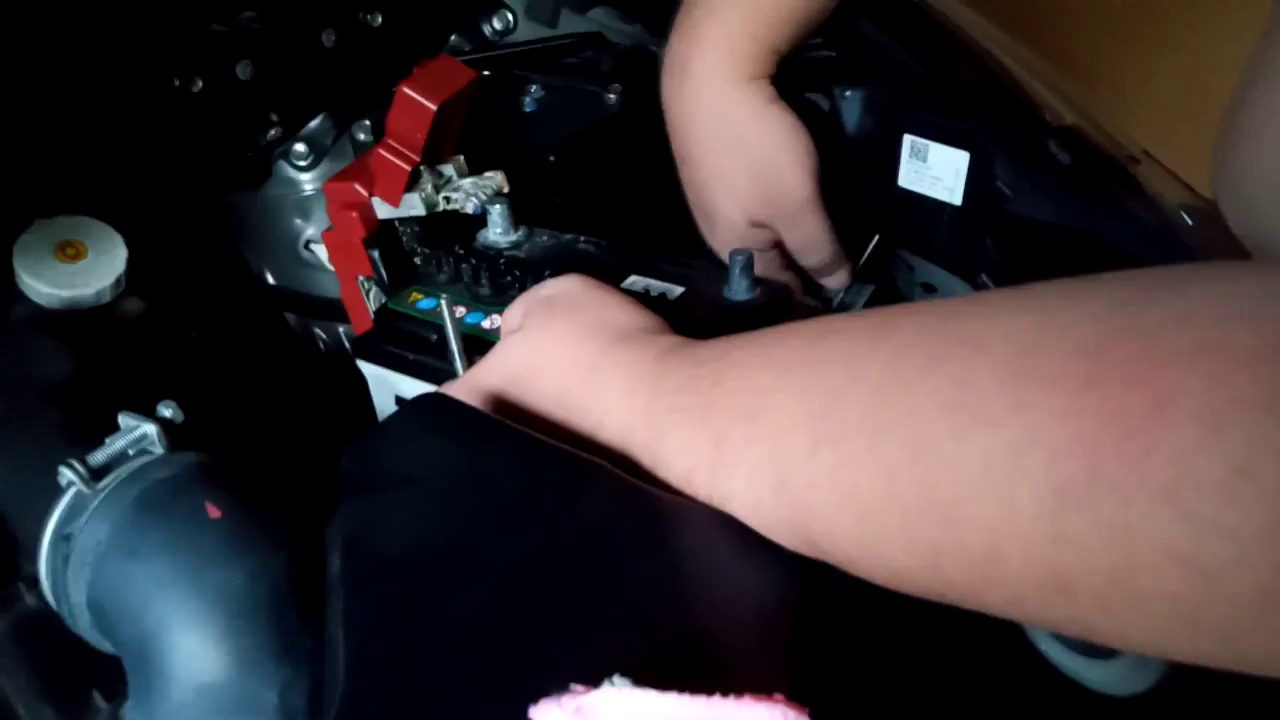battery: (355, 177, 794, 378)
neg_disconnected: (684, 220, 788, 314)
neg_touched: (675, 183, 828, 320)
pos_disconnected: (294, 90, 529, 300)
